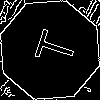T: (25, 25, 78, 69)
